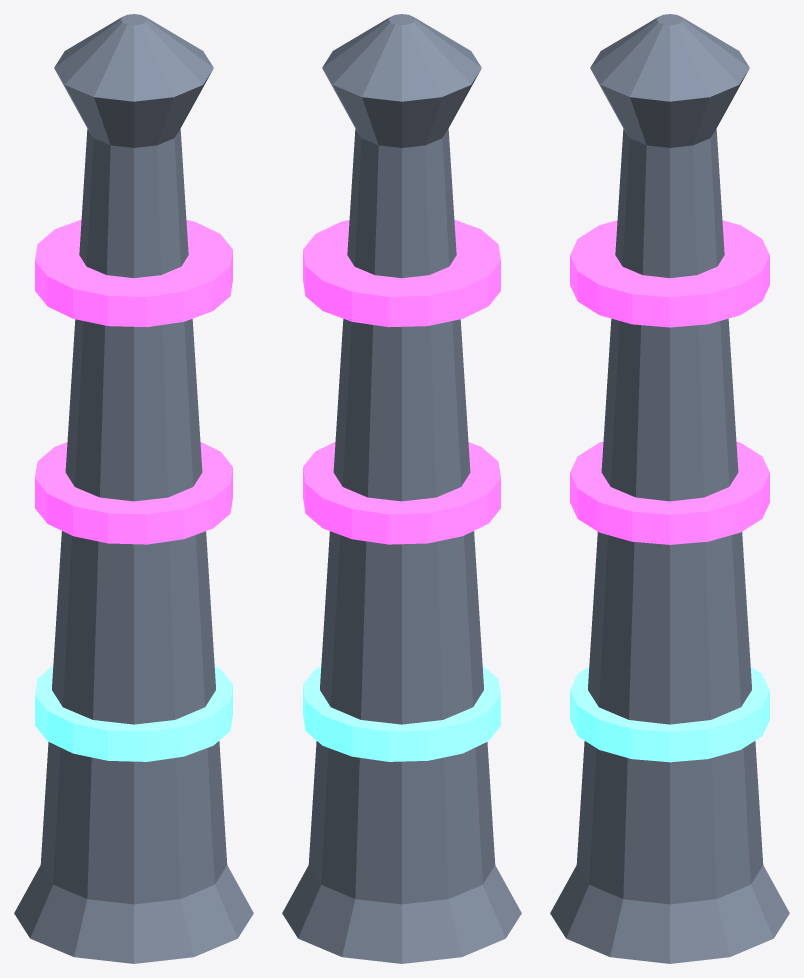
File: holo_pylon.glb
3 views of the same model, side by side, from view 1: azimuth 30°, elevation 25°; view 2: azimuth 150°, elevation 25°; view 3: azimuth 270°, elevation 25° (orthographic).
Visible parts, largest first — view 1: LOD0; view 2: LOD0; view 3: LOD0.
Part boxes in pixels (x1,y1,x2,y2): LOD0: [14, 14, 253, 963]; LOD0: [282, 14, 521, 963]; LOD0: [550, 14, 789, 963].
Size of what is drawn, in the model's own units: 1.8 by 7.4 by 1.8.
